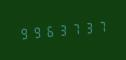nine: (17, 23, 29, 42), (30, 22, 42, 41)
seven: (69, 19, 81, 38), (95, 17, 107, 36)
six: (43, 21, 55, 40)
three: (56, 20, 68, 39), (82, 18, 94, 37)
